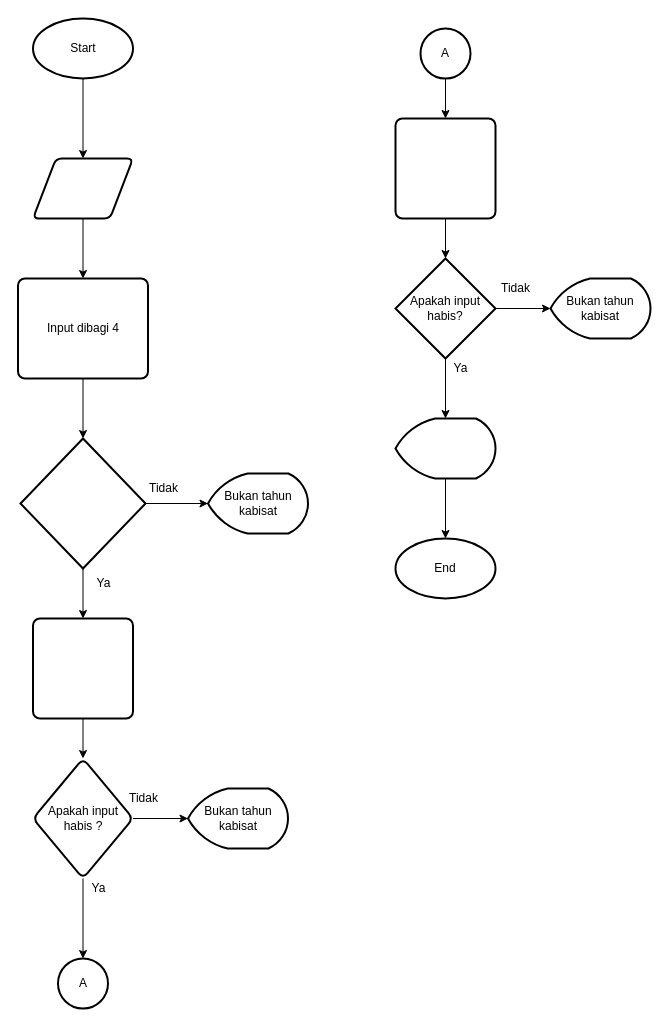
This 669x1026 diagram has some shape labels left out. Here are the shapes that lost their labels. From the top down, the box of each, then its label:
(32, 157, 134, 219): Input Tahun
(394, 117, 496, 219): Input dibagi 400
(394, 417, 496, 479): Tahun Kabisat
(19, 437, 146, 569): Apakah hasilnya bilangan bulat tanpa sisa
(32, 617, 134, 719): Input dibagi 100
